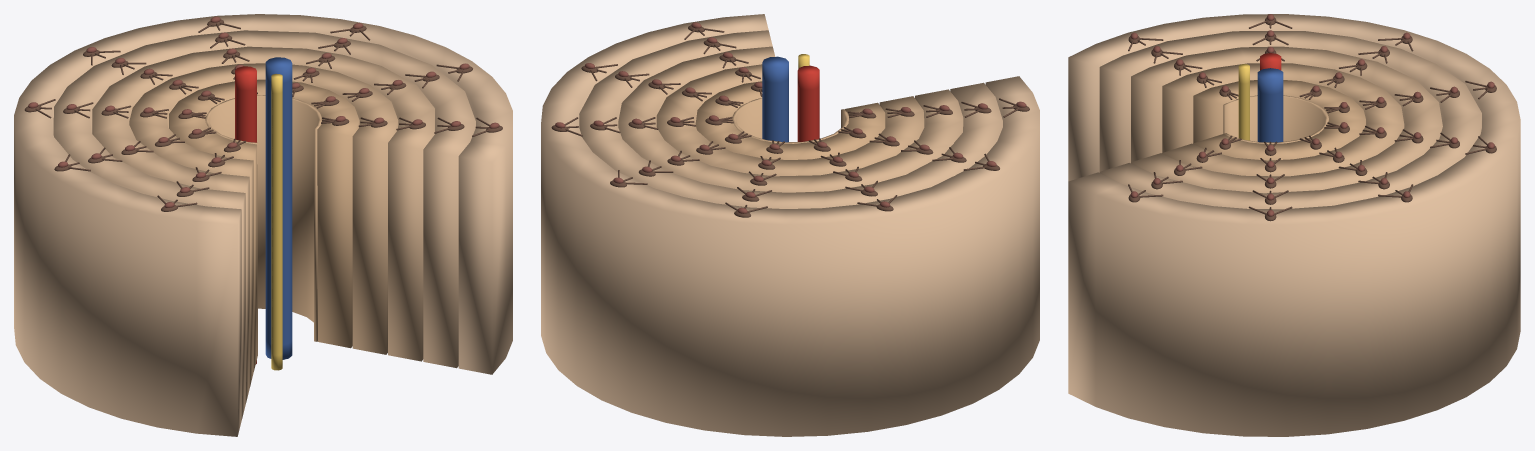
Rendered from humerus-study-v1-micro-normal.glb.
3 renders of one model, left to right at view 1: azimuth 30°, elevation 25°; view 2: azimuth 150°, elevation 25°; view 3: azimuth 270°, elevation 25°, orthographic.
Visible parts, largest first — view 1: study-lamellae, study-central-canal, study-vein, study-nerve, study-canaliculi, study-lacunae, study-osteocytes, study-artery; view 2: study-lamellae, study-canaliculi, study-lacunae, study-osteocytes, study-vein, study-artery, study-central-canal; view 3: study-lamellae, study-canaliculi, study-central-canal, study-lacunae, study-vein, study-osteocytes, study-nerve.
Part boxes in pixels (bbox=[...]): study-lamellae: bbox=[14, 14, 512, 436]; study-central-canal: bbox=[205, 95, 322, 355]; study-vein: bbox=[265, 57, 292, 359]; study-nerve: bbox=[271, 73, 282, 370]; study-canaliculi: bbox=[35, 22, 489, 206]; study-lacunae: bbox=[24, 19, 502, 211]; study-osteocytes: bbox=[28, 16, 499, 207]; study-artery: bbox=[235, 66, 256, 364]; study-lamellae: bbox=[541, 14, 1039, 436]; study-canaliculi: bbox=[564, 28, 1018, 212]; study-lacunae: bbox=[551, 25, 1029, 217]; study-osteocytes: bbox=[555, 22, 1026, 213]; study-vein: bbox=[762, 56, 788, 142]; study-artery: bbox=[797, 65, 819, 141]; study-central-canal: bbox=[732, 98, 848, 143]; study-lamellae: bbox=[1068, 14, 1520, 436]; study-canaliculi: bbox=[1128, 20, 1488, 214]; study-central-canal: bbox=[1223, 95, 1328, 144]; study-lacunae: bbox=[1128, 17, 1496, 221]; study-vein: bbox=[1257, 68, 1283, 142]; study-osteocytes: bbox=[1130, 14, 1494, 216]; study-nerve: bbox=[1238, 64, 1249, 140].
Bounding box in the file's own units: 8.52 × 5.5 × 7.72.
